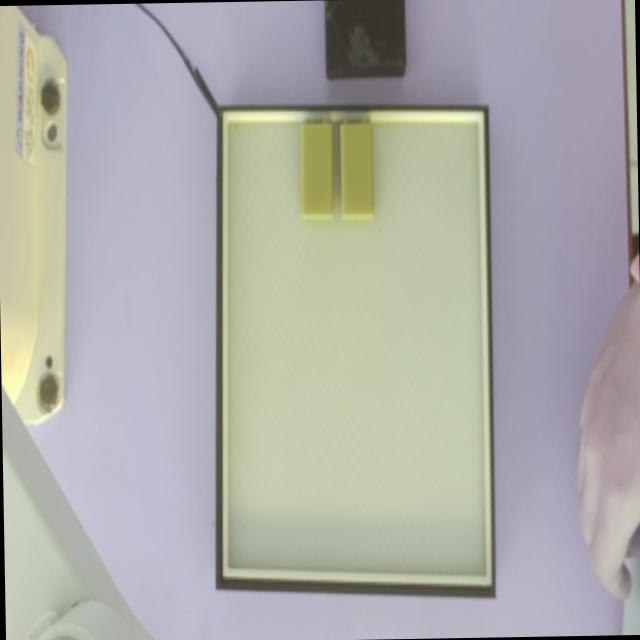bateria: (341, 116, 374, 219), (301, 115, 334, 218)
mesa: (215, 105, 495, 599)
